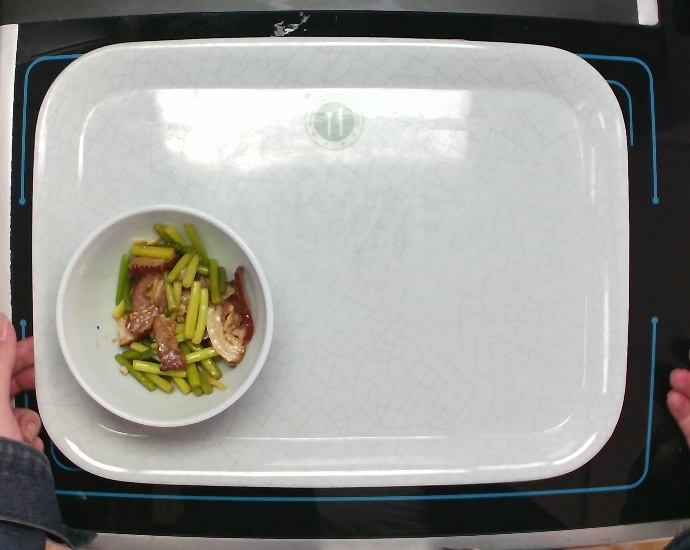JYsf-Fan_Wan: (48, 196, 279, 433)
